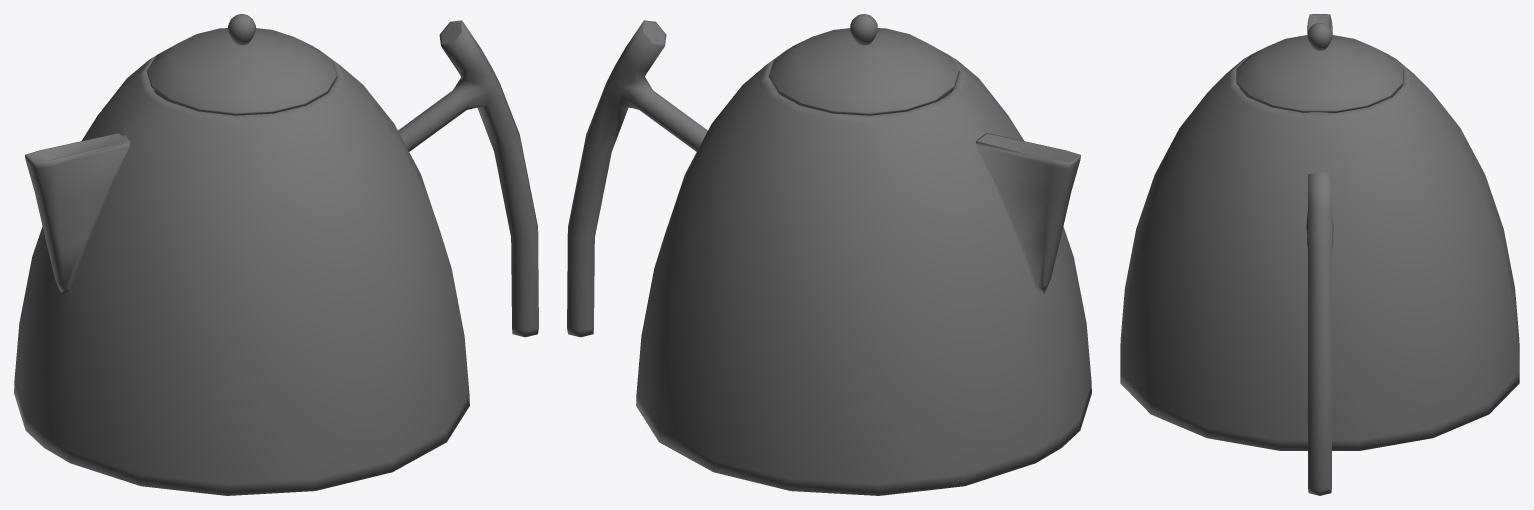
File: teaPot.fbx
The picture shows the model from 3 angles, left to right: view 1: azimuth 30°, elevation 25°; view 2: azimuth 150°, elevation 25°; view 3: azimuth 270°, elevation 25°; orthographic projection. The views are drawn at different scales.
Visible parts, largest first — view 1: SteelTeaPot; view 2: SteelTeaPot; view 3: SteelTeaPot.
Part boxes in pixels (x1,y1,x2,y2): SteelTeaPot: (14,14,538,495); SteelTeaPot: (567,14,1091,495); SteelTeaPot: (1120,14,1519,495).
Bounding box in the file's own units: 2488 × 1799 × 1897.
